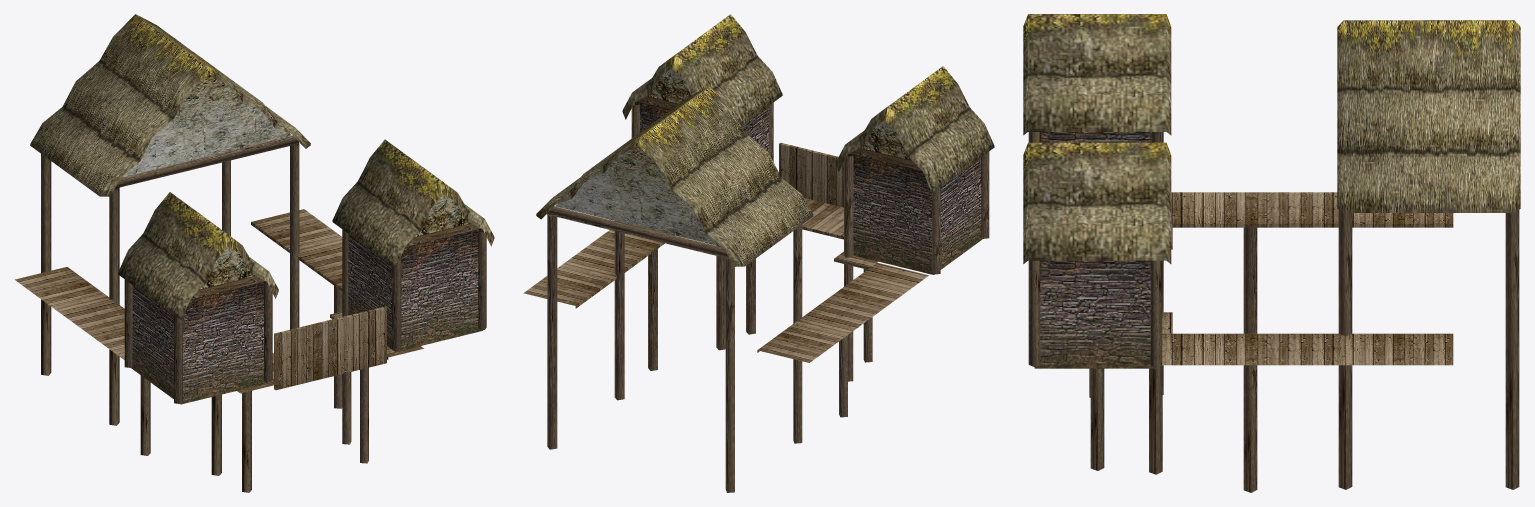
Rendered from celt_fortress_struct.dae.
3 renders of one model, left to right at view 1: azimuth 30°, elevation 25°; view 2: azimuth 150°, elevation 25°; view 3: azimuth 270°, elevation 25°, orthographic. The views are drawn at different scales.
Parts seen in each view (by area): view 1: gallic_props1-Pivot; view 2: gallic_props1-Pivot; view 3: gallic_props1-Pivot.
Boxes of the visible parts, x1,y1,x2,y2 form: gallic_props1-Pivot: [15, 14, 494, 492]; gallic_props1-Pivot: [523, 14, 994, 492]; gallic_props1-Pivot: [1023, 14, 1520, 492].
Bounding box in the file's own units: 16.82 × 18.49 × 16.93.
